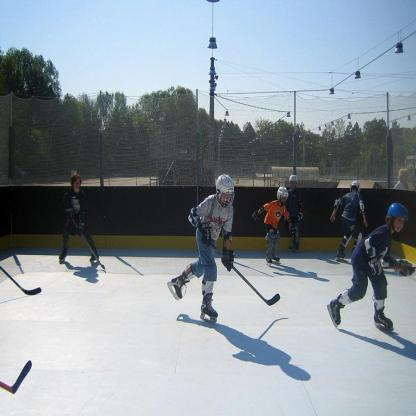face: (393, 216, 406, 233), (222, 193, 233, 207), (75, 179, 81, 190), (291, 180, 297, 189), (282, 195, 287, 204)
